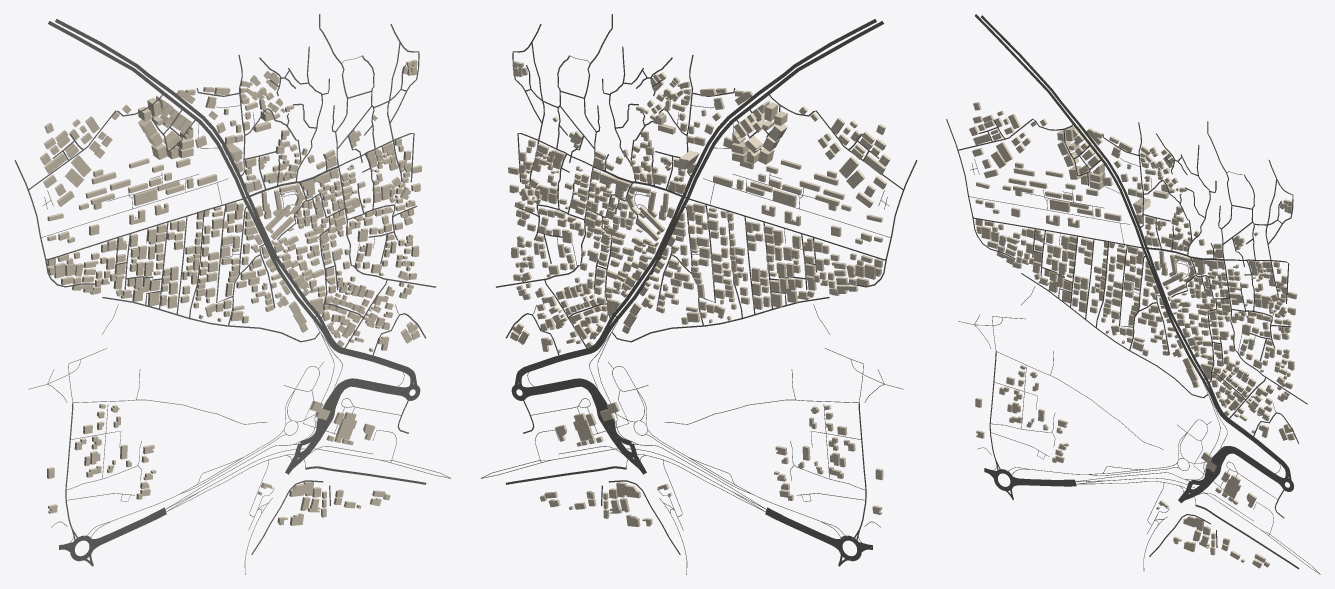
File: historic-palestine-10_24_3522_3186.glb
3 renders of one model, left to right at view 1: azimuth 30°, elevation 25°; view 2: azimuth 150°, elevation 25°; view 3: azimuth 330°, elevation 25°, orthographic. The views are drawn at different scales.
Parts seen in each view (by area): view 1: Road شارع القدس, Road شارع القدس.001, Road .075, Road .026; view 2: Road شارع القدس, Road شارع القدس.001, Road .075, Road .026; view 3: Road شارع القدس, Road شارع القدس.001.
Part boxes in pixels (x1,y1,x2,y2): Road شارع القدس: [48, 21, 312, 315]; Road شارع القدس.001: [55, 19, 307, 301]; Road .075: [305, 300, 417, 387]; Road .026: [14, 160, 243, 260]; Road شارع القدس: [619, 21, 883, 315]; Road شارع القدس.001: [624, 19, 876, 301]; Road .075: [514, 300, 626, 387]; Road .026: [688, 160, 917, 260]; Road شارع القدس: [975, 14, 1201, 375]; Road شارع القدس.001: [981, 15, 1197, 362].
Size of the model in its own units: 1117 by 1471 by 47.7.
